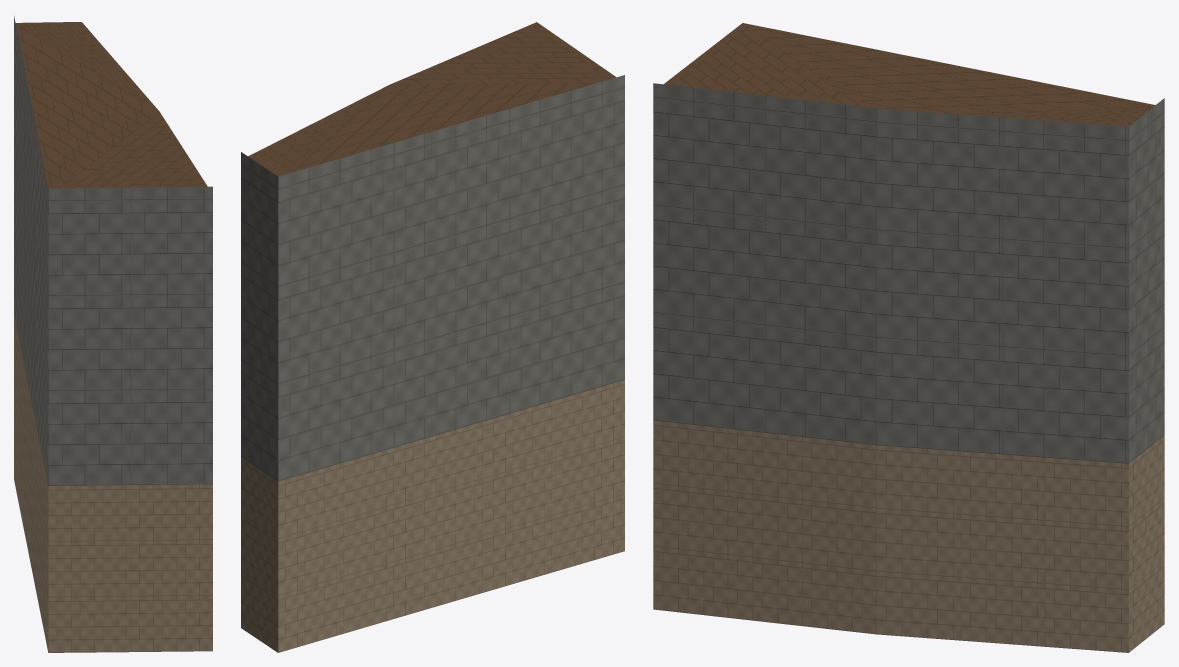
The model's file is bld_c40_-49_466.gltf.
3 views of the same model, side by side, from view 1: azimuth 30°, elevation 25°; view 2: azimuth 150°, elevation 25°; view 3: azimuth 270°, elevation 25° (orthographic). The views are drawn at different scales.
Parts seen in each view (by area): view 1: bld_c40_-49_466; view 2: bld_c40_-49_466; view 3: bld_c40_-49_466.
Part boxes in pixels (x1,y1,x2,y2): bld_c40_-49_466: (14, 16, 212, 652); bld_c40_-49_466: (241, 22, 624, 652); bld_c40_-49_466: (653, 23, 1164, 652).
Bounding box in the file's own units: 6.51 × 14.18 × 12.48.
Materials: 4 (4 with a texture image).
